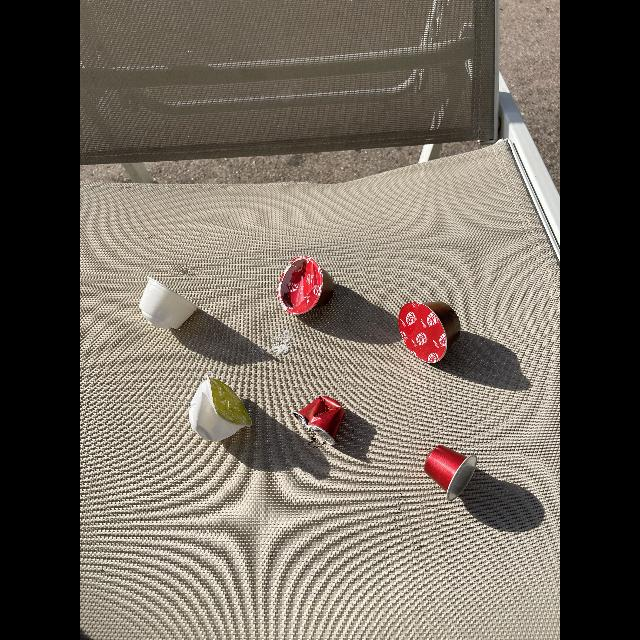damaged_capsule: (186, 372, 256, 448), (274, 256, 340, 318), (290, 394, 350, 444)
intact_capsule: (396, 296, 462, 366), (420, 443, 488, 503), (138, 275, 200, 337)
